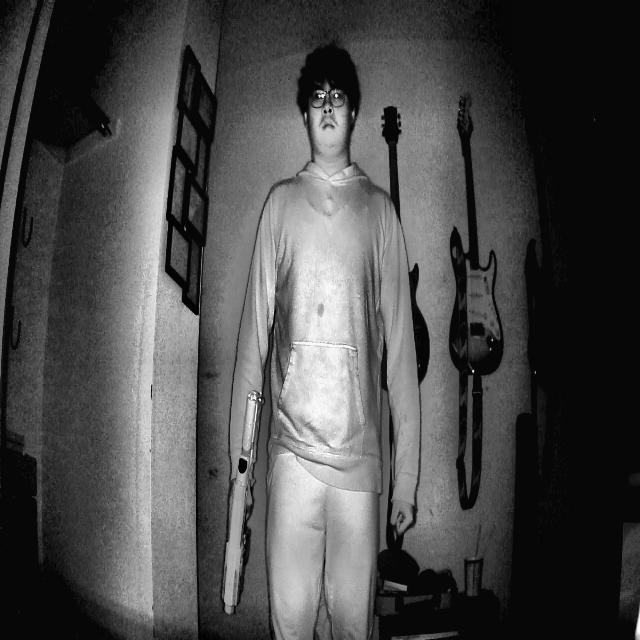Nerf_Blaster: (213, 377, 265, 618)
